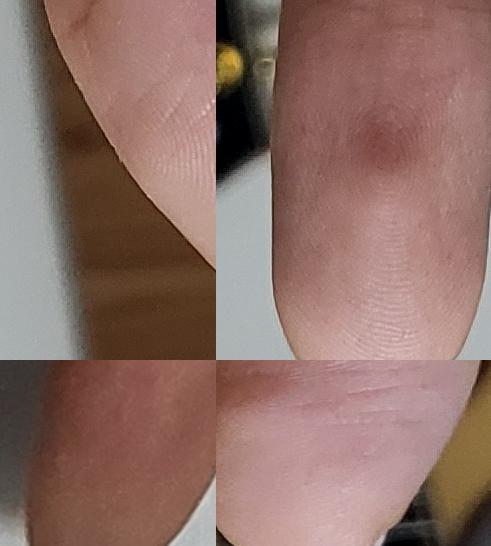Fingerprints: (270, 0, 491, 360), (216, 360, 481, 546), (25, 360, 216, 546)
